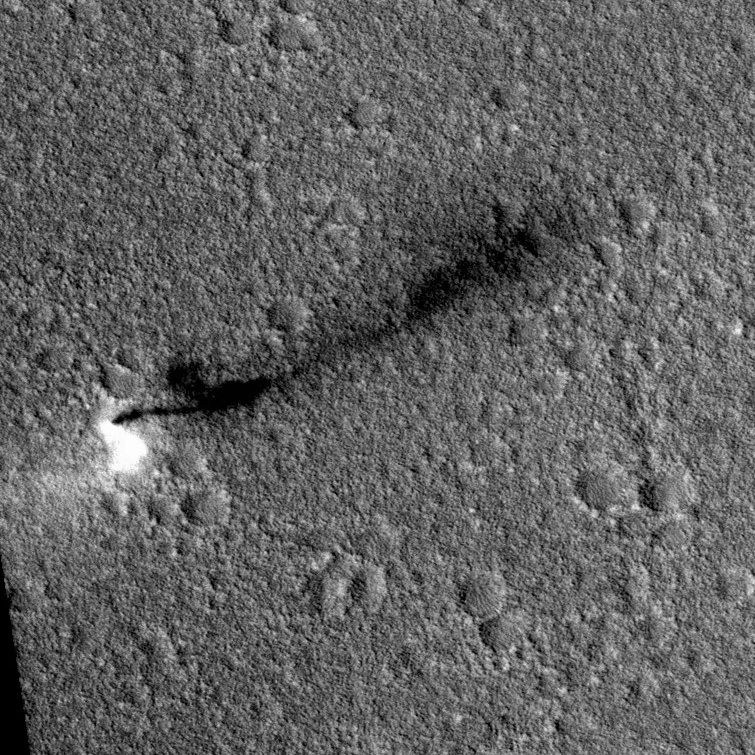dust_devil: (71, 197, 598, 487)
